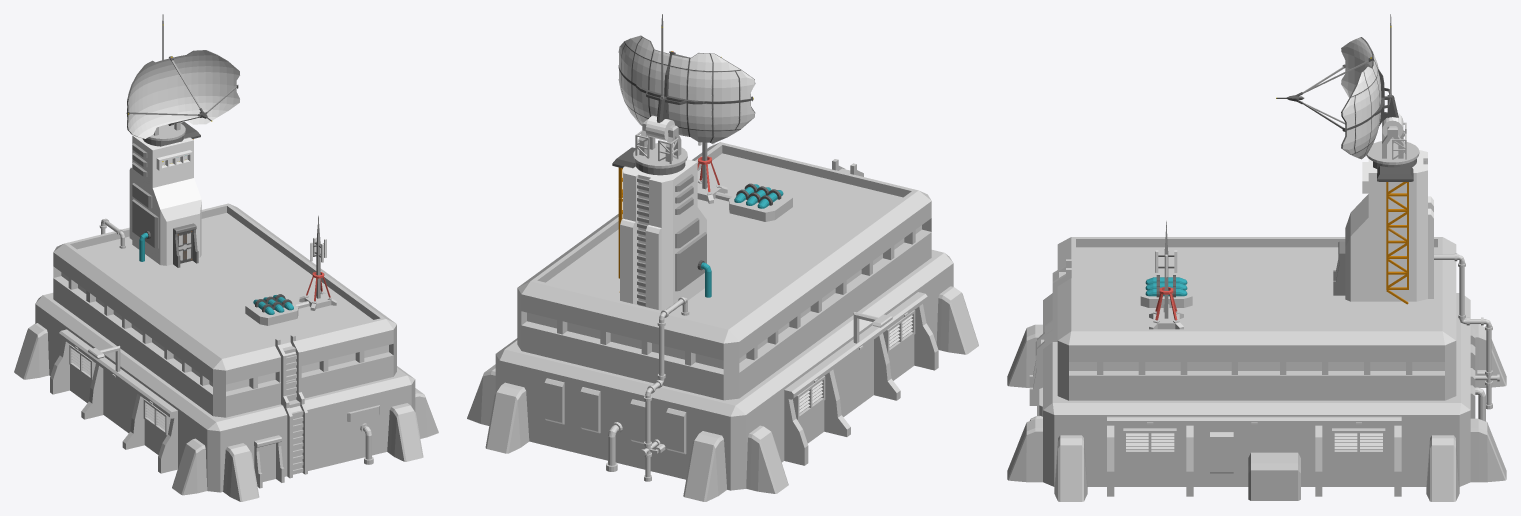
File: Terrace.fbx
3 renders of one model, left to right at view 1: azimuth 30°, elevation 25°; view 2: azimuth 150°, elevation 25°; view 3: azimuth 270°, elevation 25°, orthographic. The views are drawn at different scales.
Visible parts, largest first — view 1: service_building_1_, Radar_building__Cube.027, Radar_)))_radar_Cylinder.002, service_building_1__Cube.001, Engine_=__radar_Cylinder.008; view 2: service_building_1_, Radar_building__Cube.027, Radar_)))_radar_Cylinder.002, Engine_=__radar_Cylinder.008, service_building_1__Cube.001; view 3: service_building_1_, Radar_building__Cube.027, Radar_)))_radar_Cylinder.002, service_building_1__Cube.001, Engine_=__radar_Cylinder.008.
Part boxes in pixels (<box>): service_building_1_: <box>14,203,438,501</box>; Radar_building__Cube.027: <box>129,122,201,267</box>; Radar_)))_radar_Cylinder.002: <box>126,14,239,138</box>; service_building_1__Cube.001: <box>253,215,330,314</box>; Engine_=__radar_Cylinder.008: <box>147,122,185,140</box>; service_building_1_: <box>467,142,978,501</box>; Radar_building__Cube.027: <box>612,147,711,311</box>; Radar_)))_radar_Cylinder.002: <box>618,14,755,142</box>; Engine_=__radar_Cylinder.008: <box>633,119,687,168</box>; service_building_1__Cube.001: <box>697,142,783,208</box>; service_building_1_: <box>1007,237,1506,501</box>; Radar_building__Cube.027: <box>1333,150,1433,304</box>; Radar_)))_radar_Cylinder.002: <box>1276,14,1403,159</box>; service_building_1__Cube.001: <box>1145,221,1187,320</box>; Engine_=__radar_Cylinder.008: <box>1366,122,1419,164</box>.
Size of the model in its own units: 427 by 541 by 594.
9 materials, 5 textured.
